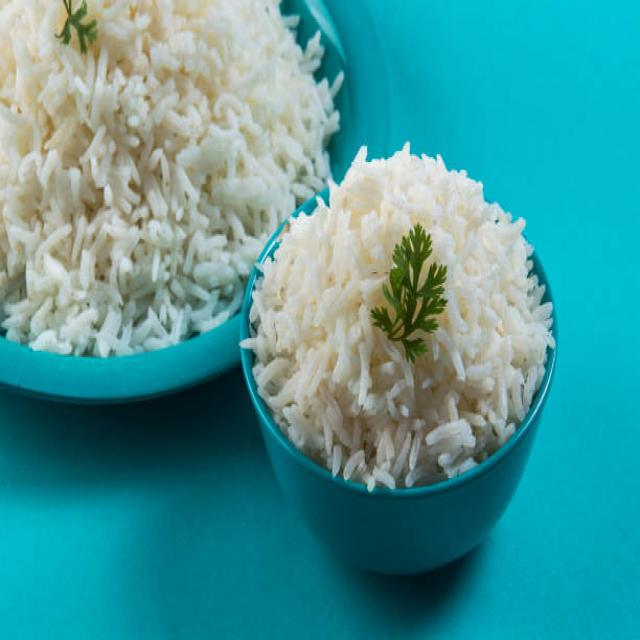rice: (0, 0, 345, 360), (238, 143, 556, 492)
